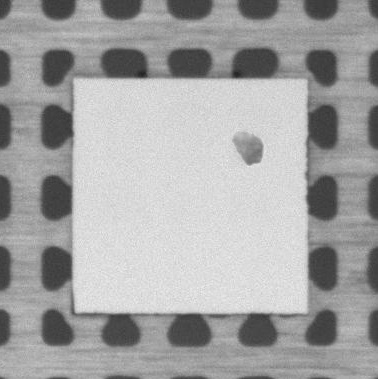DIE_INK: (226, 126, 266, 170)
